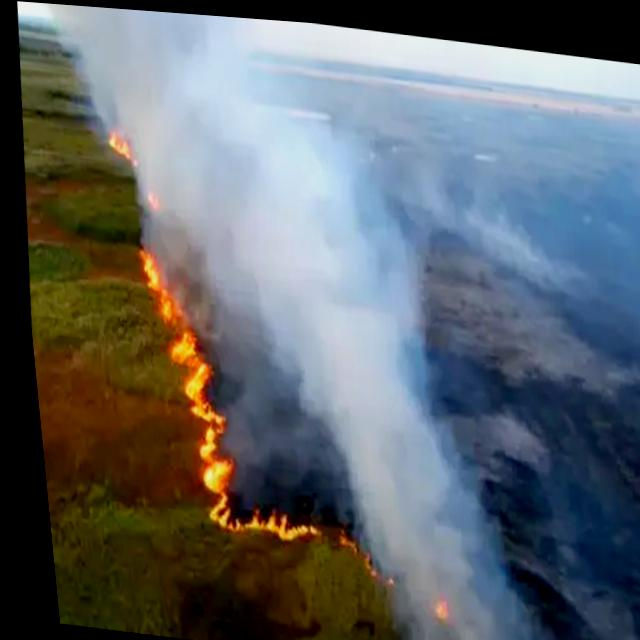no_helmet: (15, 1, 556, 640)
